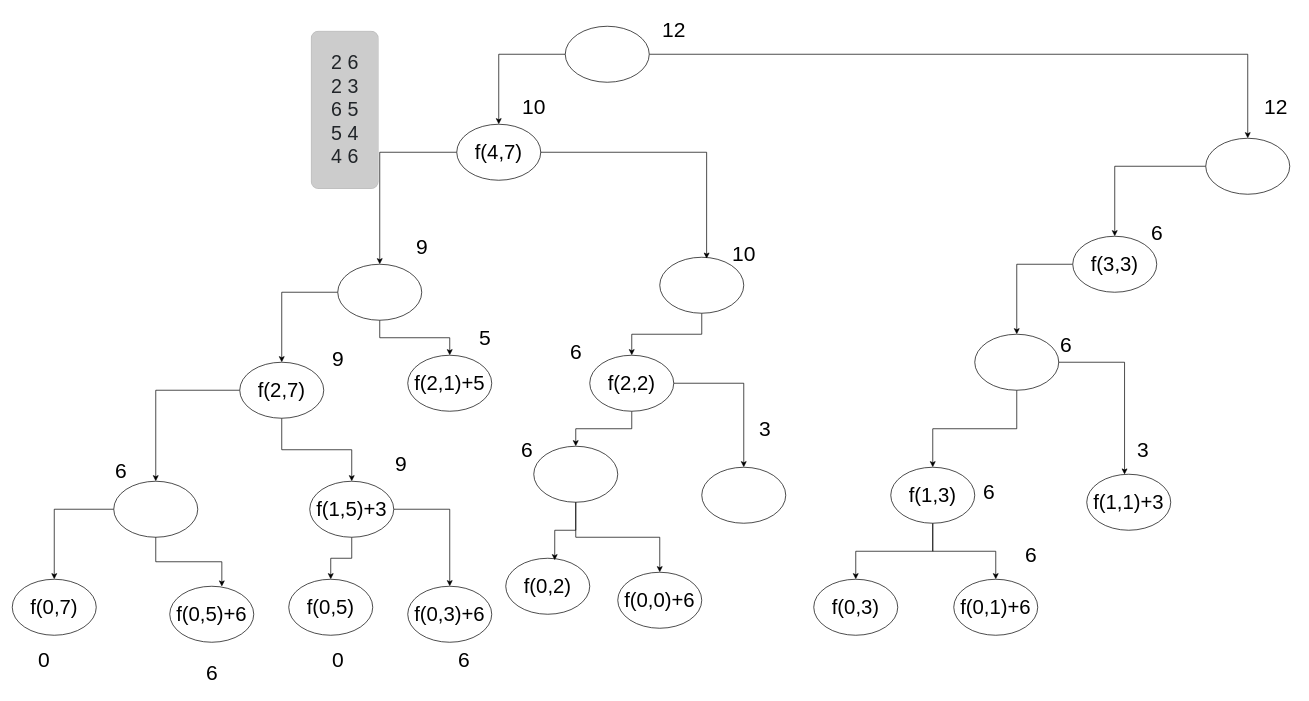
Some shapes in this 1309 by 701 pixel diagram are drawn without their labels. Here are the shapes that lost their labels. From the top down, the centre of each, then its label:
At (x=607, y=54): "f(5,7)".
At (x=1247, y=166): "f(4,3)+6".
At (x=379, y=292): "f(3,7)".
At (x=701, y=285): "f(3,2)+4".
At (x=1016, y=362): "f(2,3)".
At (x=575, y=474): "f(1 ,2)".
At (x=155, y=509): "f(1 ,7)".
At (x=743, y=495): "f(1 ,0)+3".
